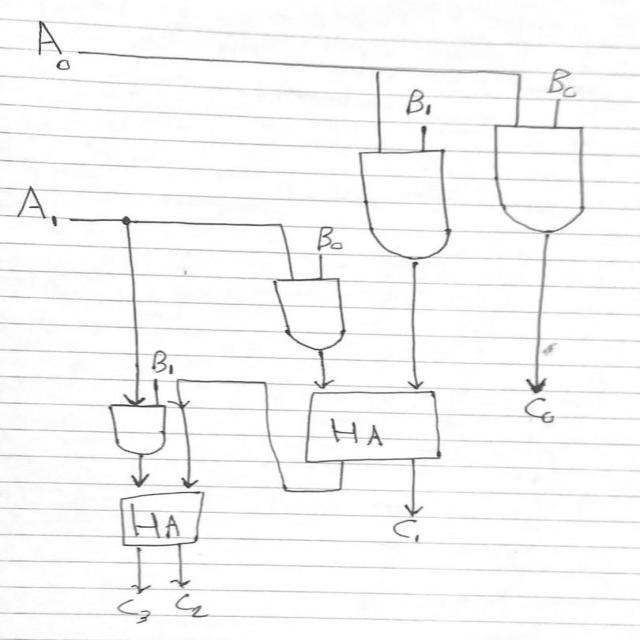AND: (483, 117, 602, 247), (348, 142, 468, 269), (262, 270, 354, 360), (101, 394, 177, 464)
